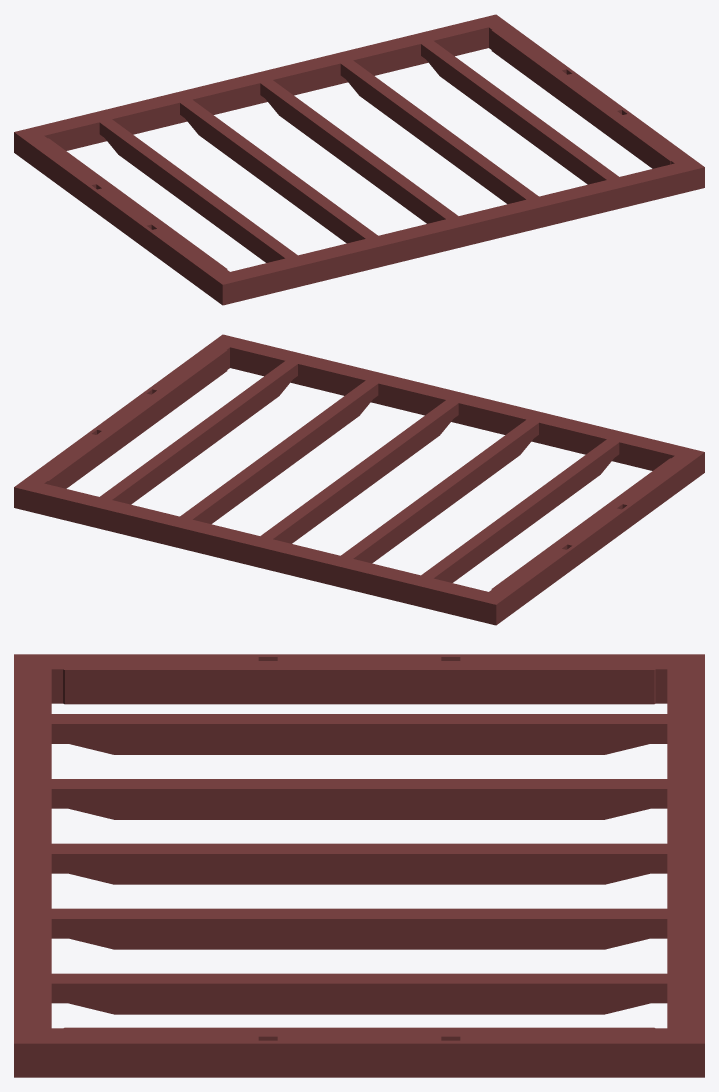
The model's file is Floor Frame.obj.
3 renders of one model, top to bottom at view 1: azimuth 30°, elevation 25°; view 2: azimuth 150°, elevation 25°; view 3: azimuth 270°, elevation 25°, orthographic. The views are drawn at different scales.
Visible parts, largest first — view 1: object_11, object_6, object_5, object_4, object_8, object_10, object_7, object_9, object_3; view 2: object_6, object_11, object_5, object_4, object_8, object_10, object_7, object_9, object_3; view 3: object_4, object_5, object_8, object_7, object_3, object_10, object_9, object_6, object_11.
Boxes of the visible parts, x1,y1,x2,y2 form: object_11: (212,159,704,305); object_6: (14,14,506,160); object_5: (25,135,230,297); object_4: (489,22,693,168); object_8: (336,57,542,204); object_10: (95,116,301,262); object_7: (417,38,623,184); object_9: (176,96,382,243); object_3: (259,79,459,223); object_6: (14,479,506,625); object_11: (212,334,704,480); object_5: (488,455,693,617); object_4: (25,342,229,488); object_8: (176,377,382,524); object_10: (417,436,623,582); object_7: (95,358,301,504); object_9: (336,416,542,563); object_3: (259,399,459,543); object_4: (50,1027,668,1077); object_5: (50,654,668,704); object_8: (37,908,681,949); object_7: (37,973,681,1014); object_3: (48,843,670,884); object_10: (37,714,681,754); object_9: (37,779,681,819); object_6: (667,654,704,1077); object_11: (14,654,51,1077).
Size of the model in its own units: 4880 by 200 by 3660.
